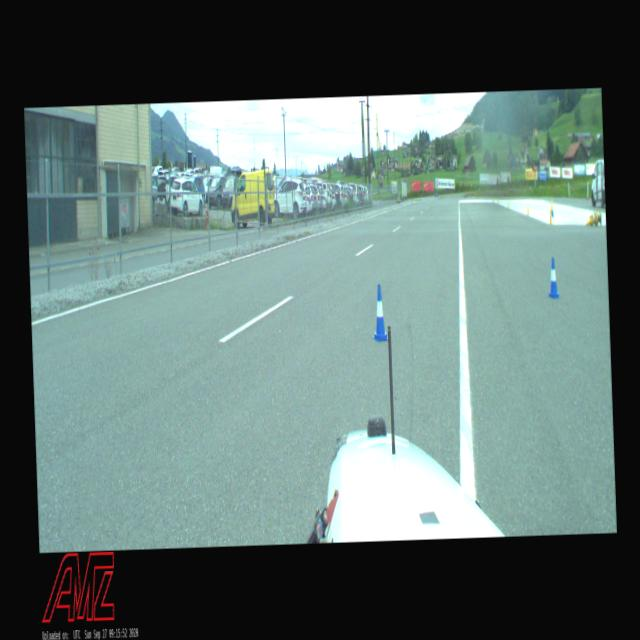blue_cone: (371, 284, 388, 342), (546, 258, 560, 299)
yellow_cone: (594, 210, 602, 227), (585, 215, 593, 228), (592, 213, 596, 227), (548, 212, 552, 225), (526, 204, 528, 216), (550, 200, 552, 210)
